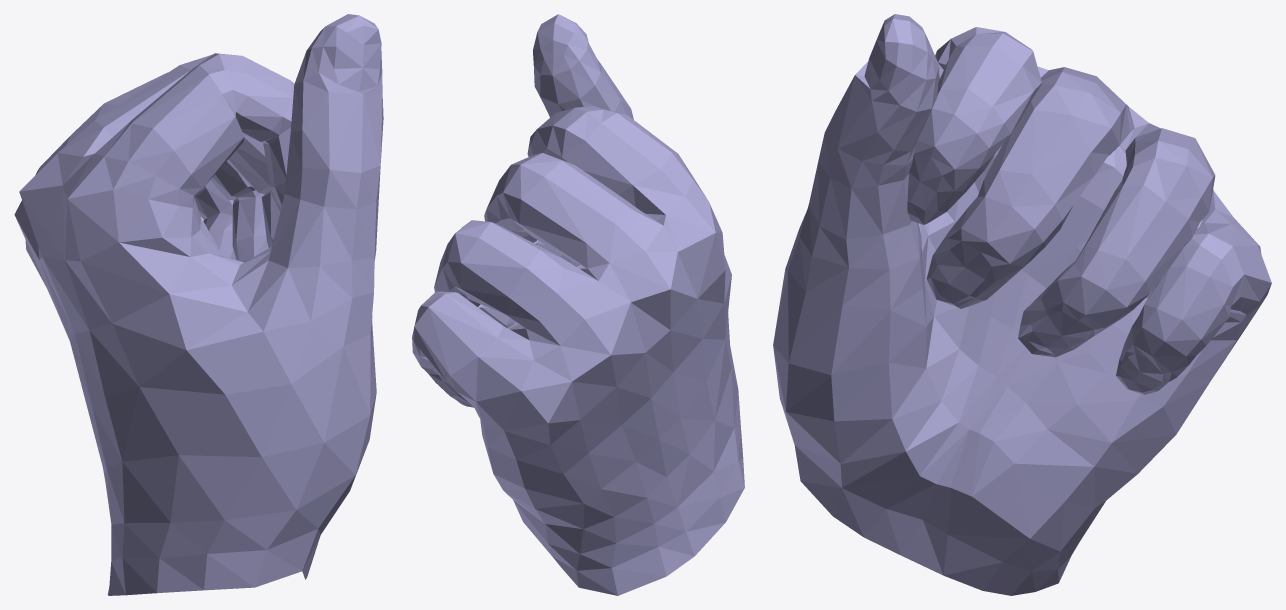
File: frame_0055_source_000055_hand.glb
The picture shows the model from 3 angles, left to right: view 1: azimuth 30°, elevation 25°; view 2: azimuth 150°, elevation 25°; view 3: azimuth 270°, elevation 25°; orthographic projection. The views are drawn at different scales.
Parts seen in each view (by area): view 1: world; view 2: world; view 3: world.
Part boxes in pixels (x1,y1,x2,y2): world: [14, 14, 383, 595]; world: [412, 14, 744, 595]; world: [773, 14, 1271, 595].
Bounding box in the file's own units: 0.0615 × 0.1269 × 0.093.
